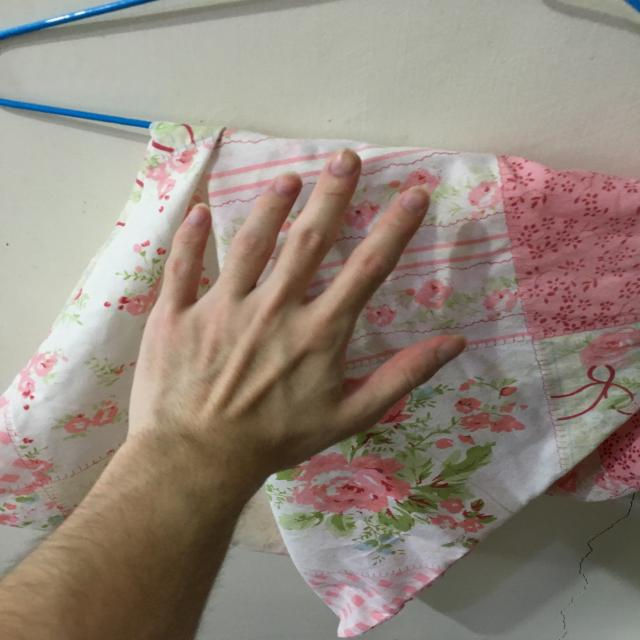no_glove: (114, 135, 487, 484)
